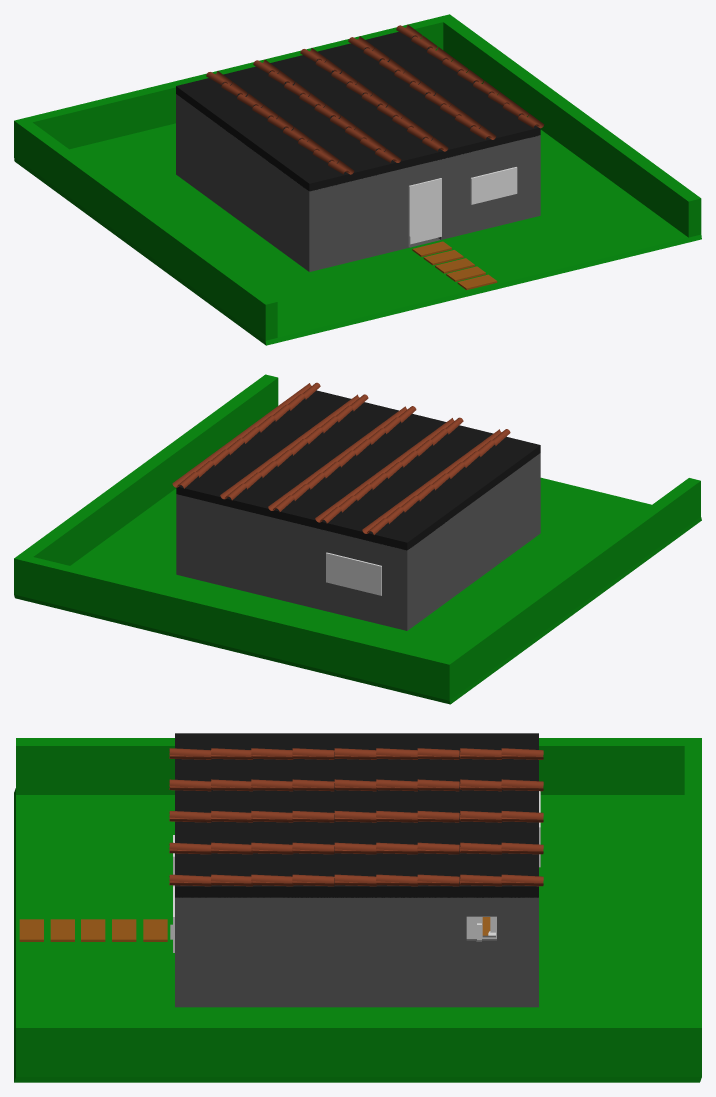
File: Casa.glb
3 renders of one model, top to bottom at view 1: azimuth 30°, elevation 25°; view 2: azimuth 150°, elevation 25°; view 3: azimuth 270°, elevation 25°, orthographic. The views are drawn at different scales.
Visible parts, largest first — view 1: Patio, Casa, Techo, CTRL_Hole, CTRL_Hole.006; view 2: Patio, Casa, Techo, CTRL_Hole.007; view 3: Patio, Techo, Casa, Plano, Plano.001, Plano.002, Plano.003, Cuarto.
Part boxes in pixels (<box>): Patio: <box>14,14,701,345</box>; Casa: <box>176,94,540,271</box>; Techo: <box>176,31,540,191</box>; CTRL_Hole: <box>408,178,441,244</box>; CTRL_Hole.006: <box>470,167,517,204</box>; Patio: <box>14,374,701,704</box>; Casa: <box>176,453,540,630</box>; Techo: <box>176,390,540,550</box>; CTRL_Hole.007: <box>326,552,381,595</box>; Patio: <box>14,738,701,1082</box>; Techo: <box>175,733,538,897</box>; Casa: <box>175,897,538,1007</box>; Plano: <box>143,919,167,941</box>; Plano.001: <box>112,919,136,941</box>; Plano.002: <box>81,919,105,941</box>; Plano.003: <box>50,919,74,941</box>; Cuarto: <box>19,919,43,941</box>.
Size of the model in its own units: 56.57 by 12.35 by 56.72.
